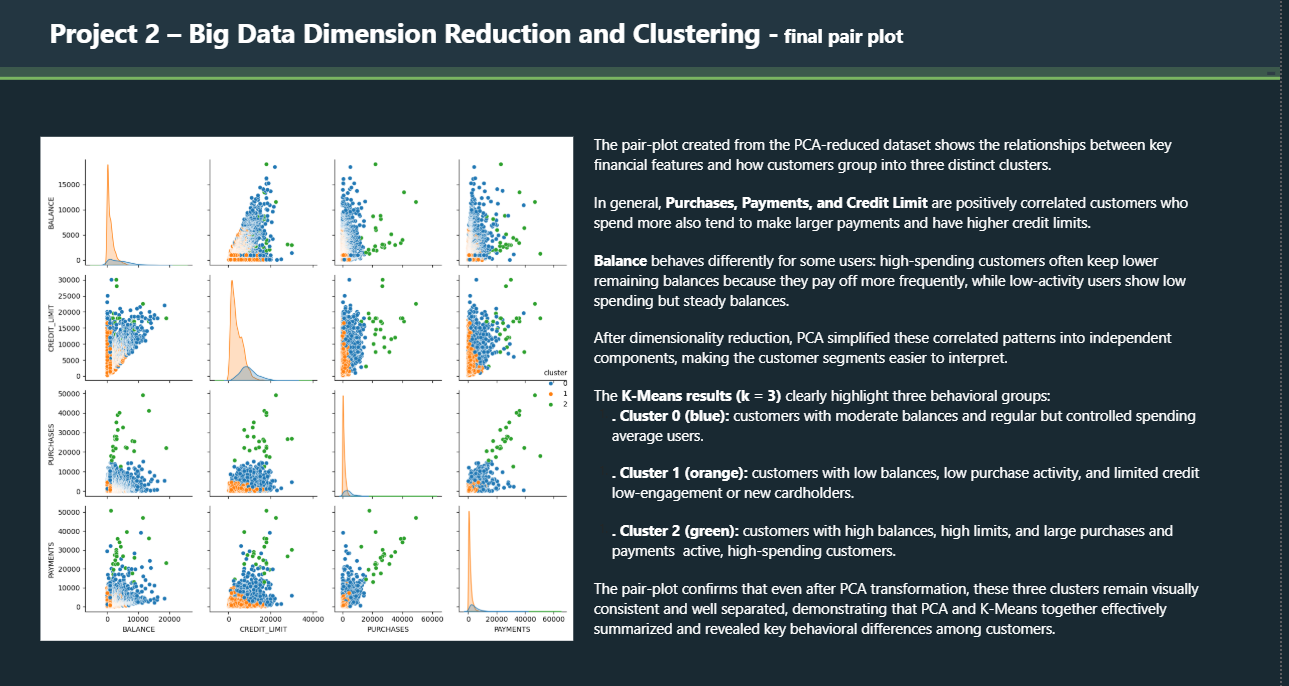

Layout of this report page (visuals, bound fields, positions):
{"tool":"powerbi","page":{"name":"Final Pair Plot","canvas":[1280,720],"ordinal":5},"visuals":[{"type":"textbox","box":[0,75.6,1280.2,12.8],"z":0},{"type":"pythonVisual","fields":{"Values":["final.BALANCE","final.CREDIT_LIMIT","final.PURCHASES","final.PAYMENTS","final.cluster"]},"box":[25.9,140.4,561.5,514],"z":1000},{"type":"textbox","box":[588.4,137.2,625.6,552.3],"z":2000},{"type":"textbox","box":[0,0,1280.2,84.9],"z":3000}]}

Visuals, with their boxes on the page's 1280x720 design canvas (x1, y1, x2, y2). These are canvas units, not pixel positions in the 1289x686 screenshot, which may show the page scaled, cropped or inside an application window:
textbox: 0/76/1280/88
pythonVisual - final.BALANCE x final.CREDIT_LIMIT: 26/140/587/654
textbox: 588/137/1214/690
textbox: 0/0/1280/85
